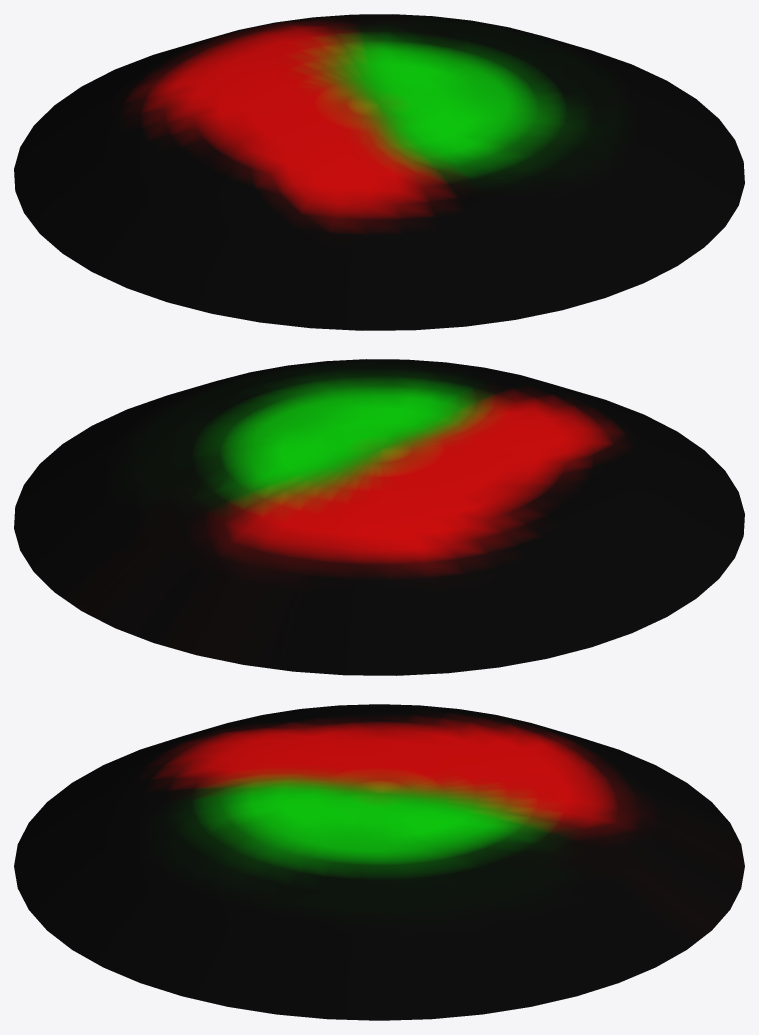
The model's file is TCP2_Demo_Island.fbx.
The picture shows the model from 3 angles, top to bottom: view 1: azimuth 30°, elevation 25°; view 2: azimuth 150°, elevation 25°; view 3: azimuth 270°, elevation 25°; orthographic projection.
Visible parts, largest first — view 1: ground; view 2: ground; view 3: ground.
Part boxes in pixels (x1,y1,x2,y2): ground: [14, 14, 744, 330]; ground: [14, 359, 744, 675]; ground: [14, 704, 744, 1020].
Bounding box in the file's own units: 2.16 × 0.2354 × 2.16.
